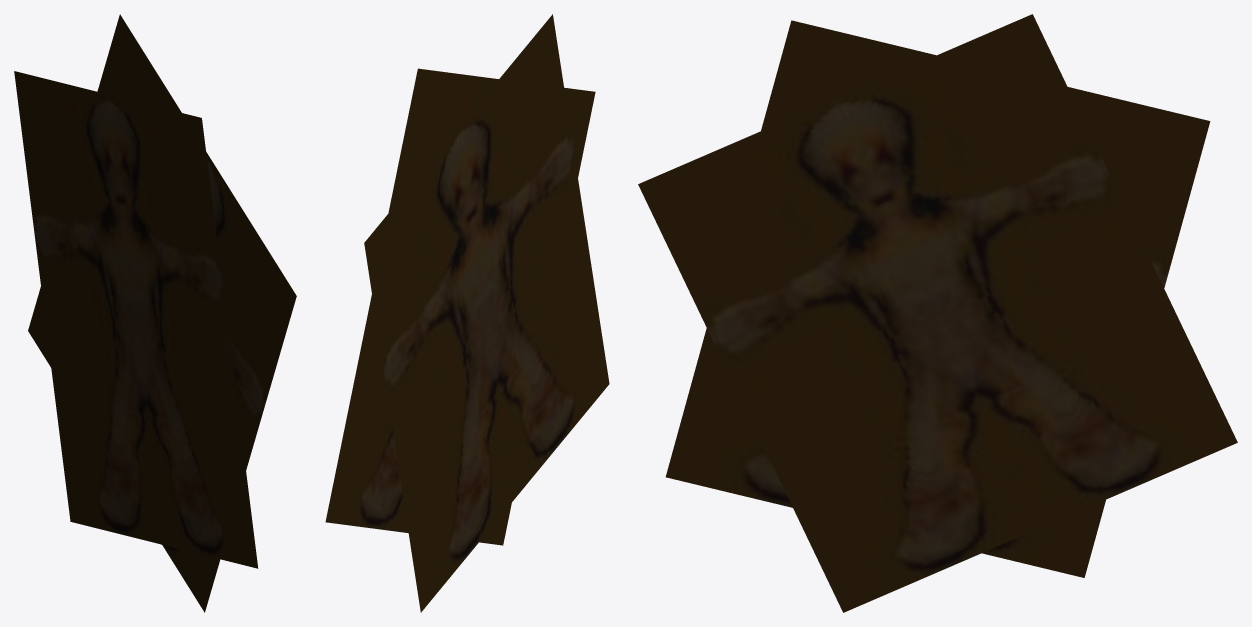
The model's file is sign1_spanish_a_icon_voodoo.fbx.
3 views of the same model, side by side, from view 1: azimuth 30°, elevation 25°; view 2: azimuth 150°, elevation 25°; view 3: azimuth 270°, elevation 25° (orthographic). The views are drawn at different scales.
Visible parts, largest first — view 1: icons; view 2: icons; view 3: icons.
Part boxes in pixels (x1,y1,x2,y2): icons: [14, 14, 296, 612]; icons: [325, 14, 609, 612]; icons: [638, 14, 1237, 612].
Bounding box in the file's own units: 16.67 × 326 × 296.
Materials: 1 (1 with a texture image).
